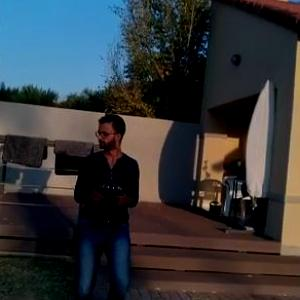follow: (68, 111, 143, 299)
